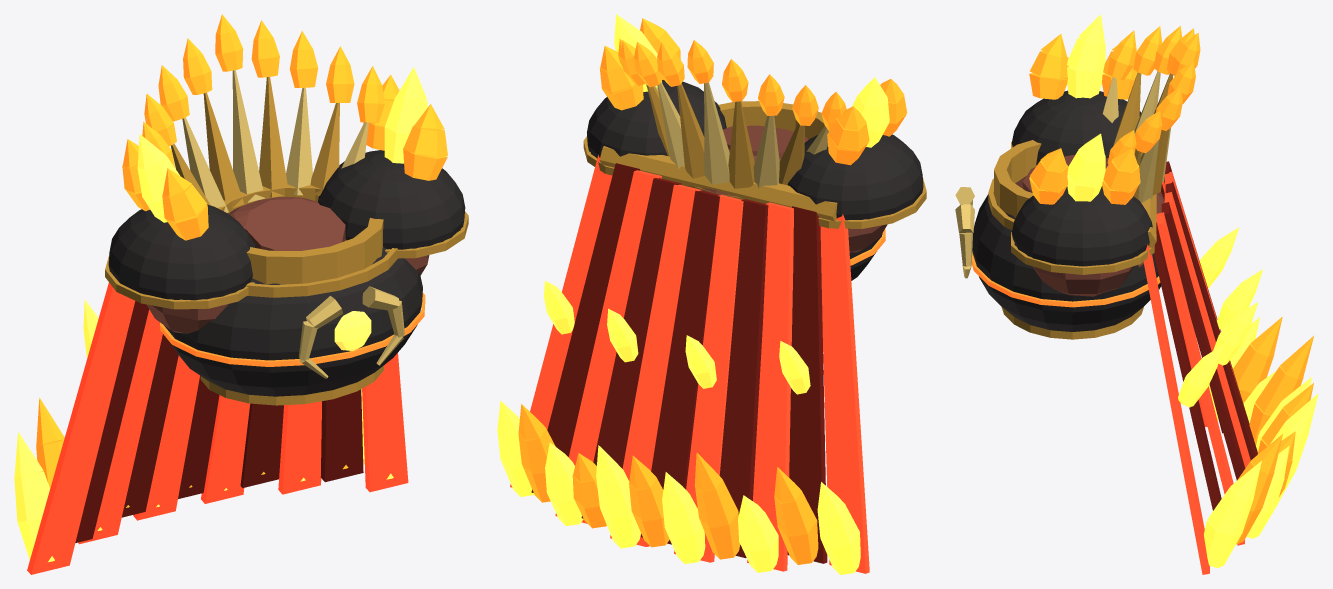
File: ember_queen_chest.glb
3 renders of one model, left to right at view 1: azimuth 30°, elevation 25°; view 2: azimuth 150°, elevation 25°; view 3: azimuth 270°, elevation 25°, orthographic. The views are drawn at different scales.
Visible parts, largest first — view 1: ember_queen_chest; view 2: ember_queen_chest; view 3: ember_queen_chest.
Part boxes in pixels (x1=…): ember_queen_chest: x1=14, y1=14, x2=468, y2=574; ember_queen_chest: x1=497, y1=14, x2=926, y2=574; ember_queen_chest: x1=955, y1=14, x2=1318, y2=574.
Size of the model in its own units: 1.53 by 2 by 1.43.
